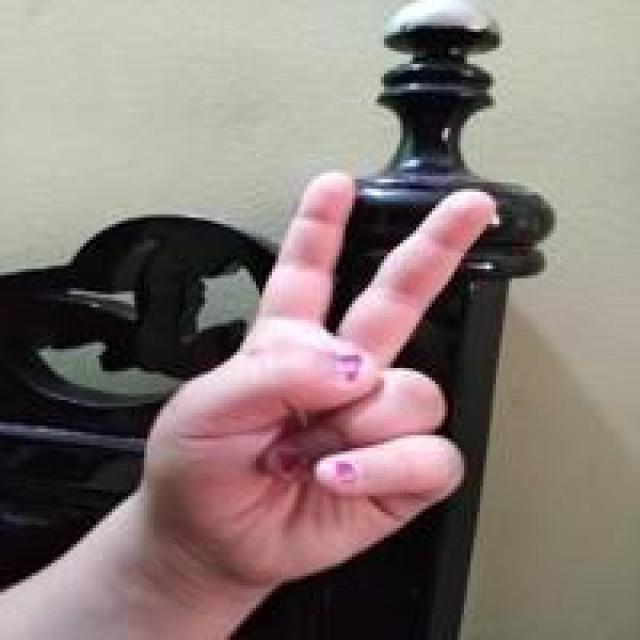V: (136, 168, 501, 597)
